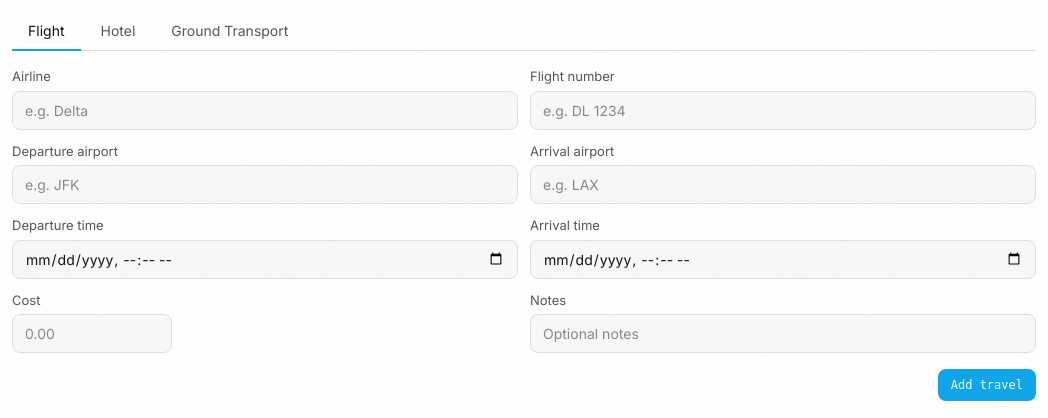
Scenario: TravelForm › shows hotel fields when hotel tab is clicked
What coordinates should you click on to do the following:
click the tab "Hotel"
I would click on:
 (118, 32)
Its box is [84, 12, 151, 51].
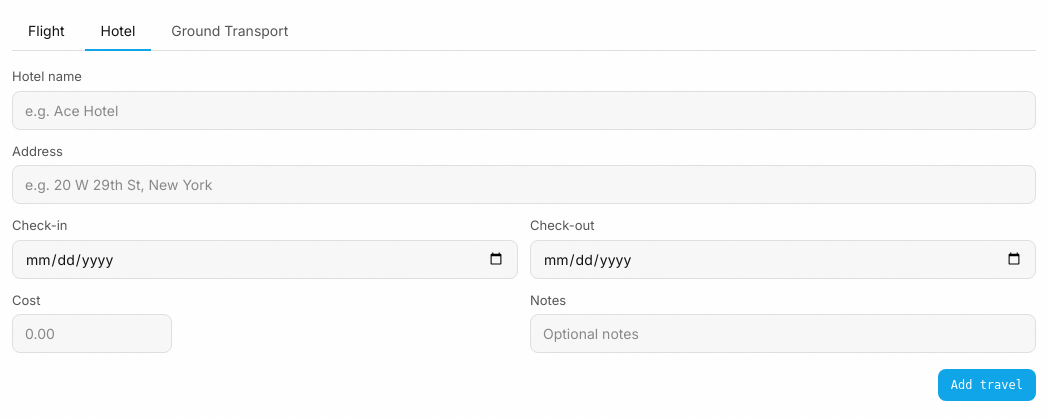
expect the field with placeholder "e.g. Ace Hotel" is shown: met, box [12, 90, 1036, 130]
expect the field with placeholder "e.g. 20 W 29th St, New York" is shown: met, box [12, 165, 1036, 204]
